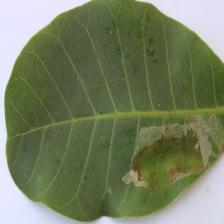leaf miner: (3, 0, 223, 222)
